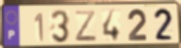1: (34, 12, 45, 43)
2: (152, 7, 176, 43), (127, 8, 149, 43)
3: (48, 9, 72, 45)
4: (102, 8, 122, 43)
Z: (74, 10, 99, 43)
